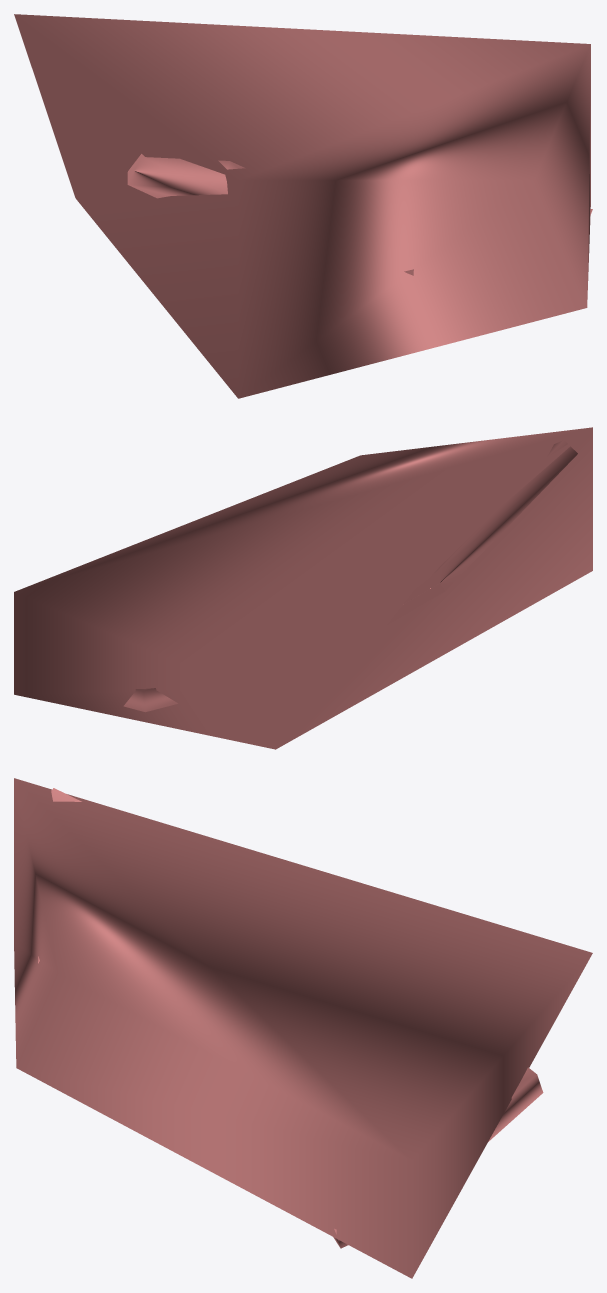
The model's file is pinger_plate_mid_left_scaled.dae.
The picture shows the model from 3 angles, top to bottom: view 1: azimuth 30°, elevation 25°; view 2: azimuth 150°, elevation 25°; view 3: azimuth 270°, elevation 25°; orthographic projection. The views are drawn at different scales.
Visible parts, largest first — view 1: pinger_plate_mid_left_scaled; view 2: pinger_plate_mid_left_scaled; view 3: pinger_plate_mid_left_scaled.
Part boxes in pixels (x1,y1,x2,y2): pinger_plate_mid_left_scaled: [14, 14, 592, 398]; pinger_plate_mid_left_scaled: [14, 427, 592, 749]; pinger_plate_mid_left_scaled: [14, 778, 592, 1278].
Bounding box in the file's own units: 1.18 × 1.27 × 0.6641.
